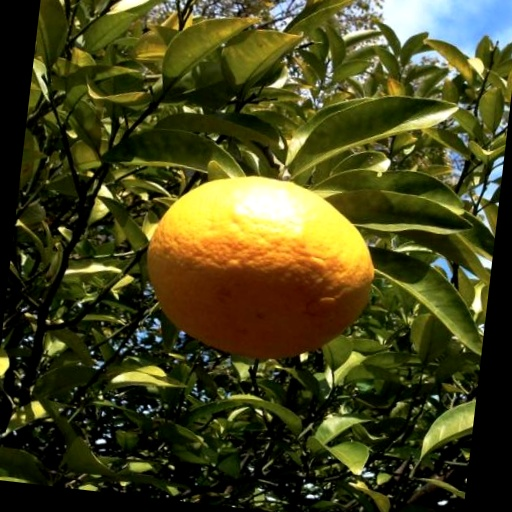fruit: (148, 177, 373, 358)
